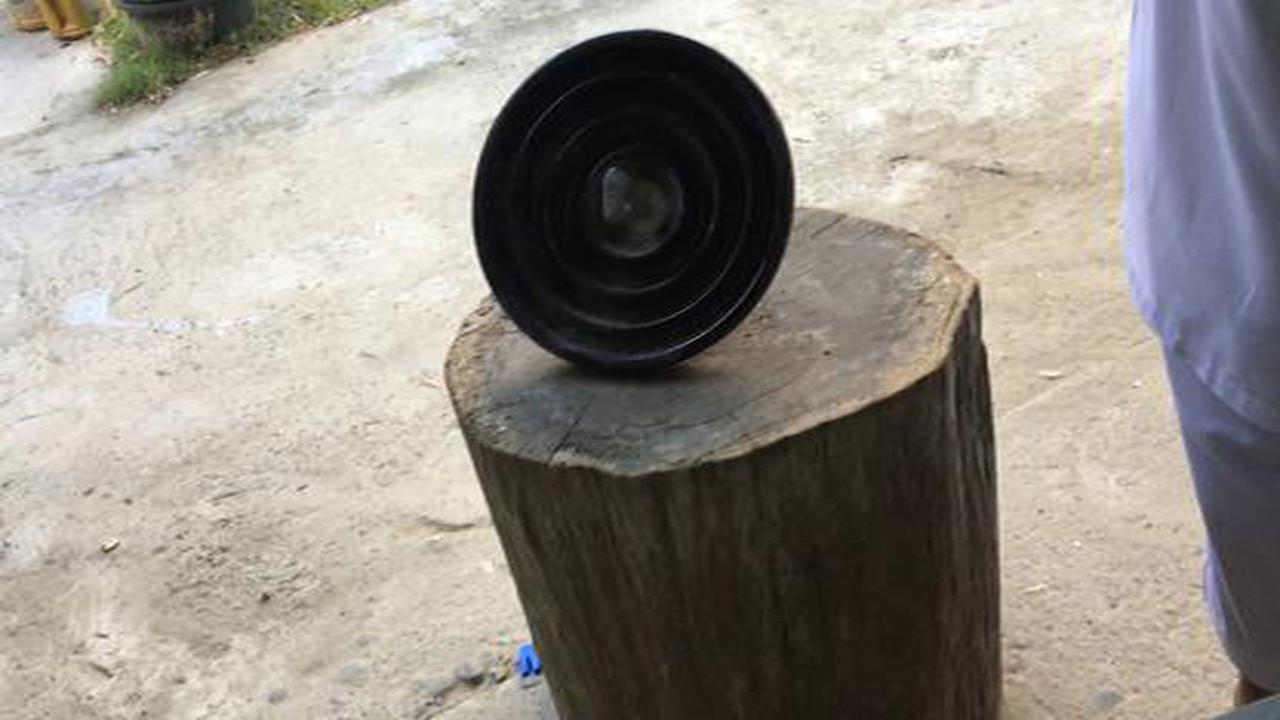insulator_disc: (469, 26, 808, 379)
